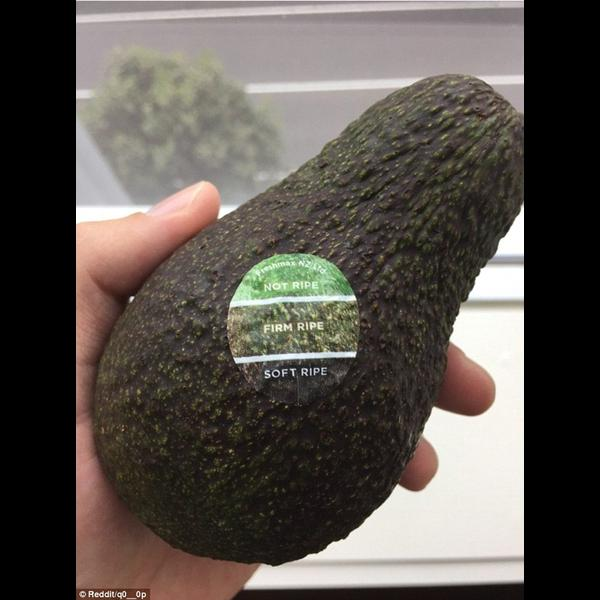ripe: (92, 74, 524, 566)
